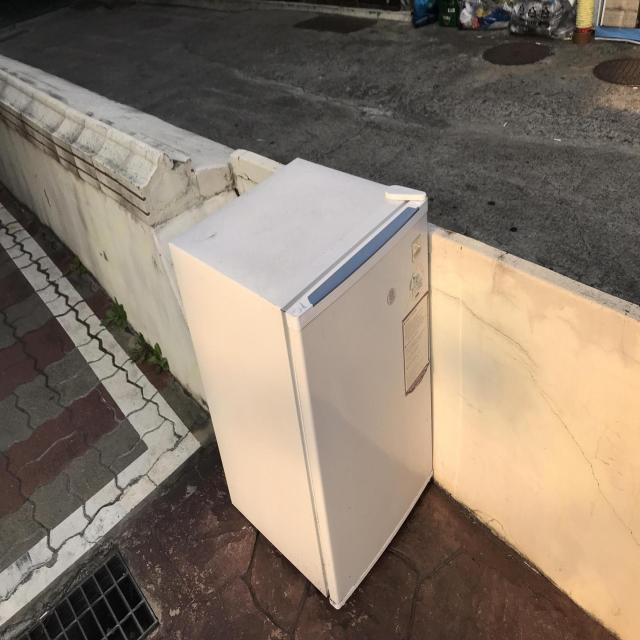refrigerator: (164, 154, 435, 614)
